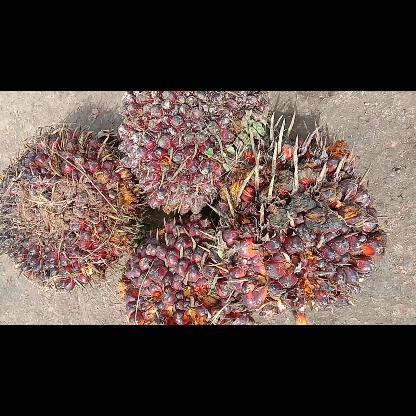Kurang masak: (0, 120, 147, 294), (115, 90, 274, 218)
TBS masak: (211, 111, 387, 315), (118, 212, 272, 324)
